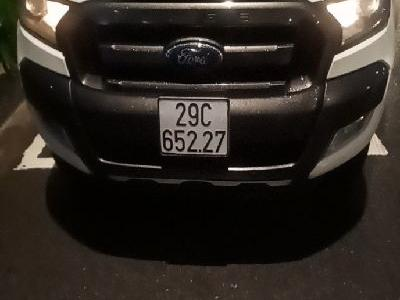car: (157, 97, 230, 158)
